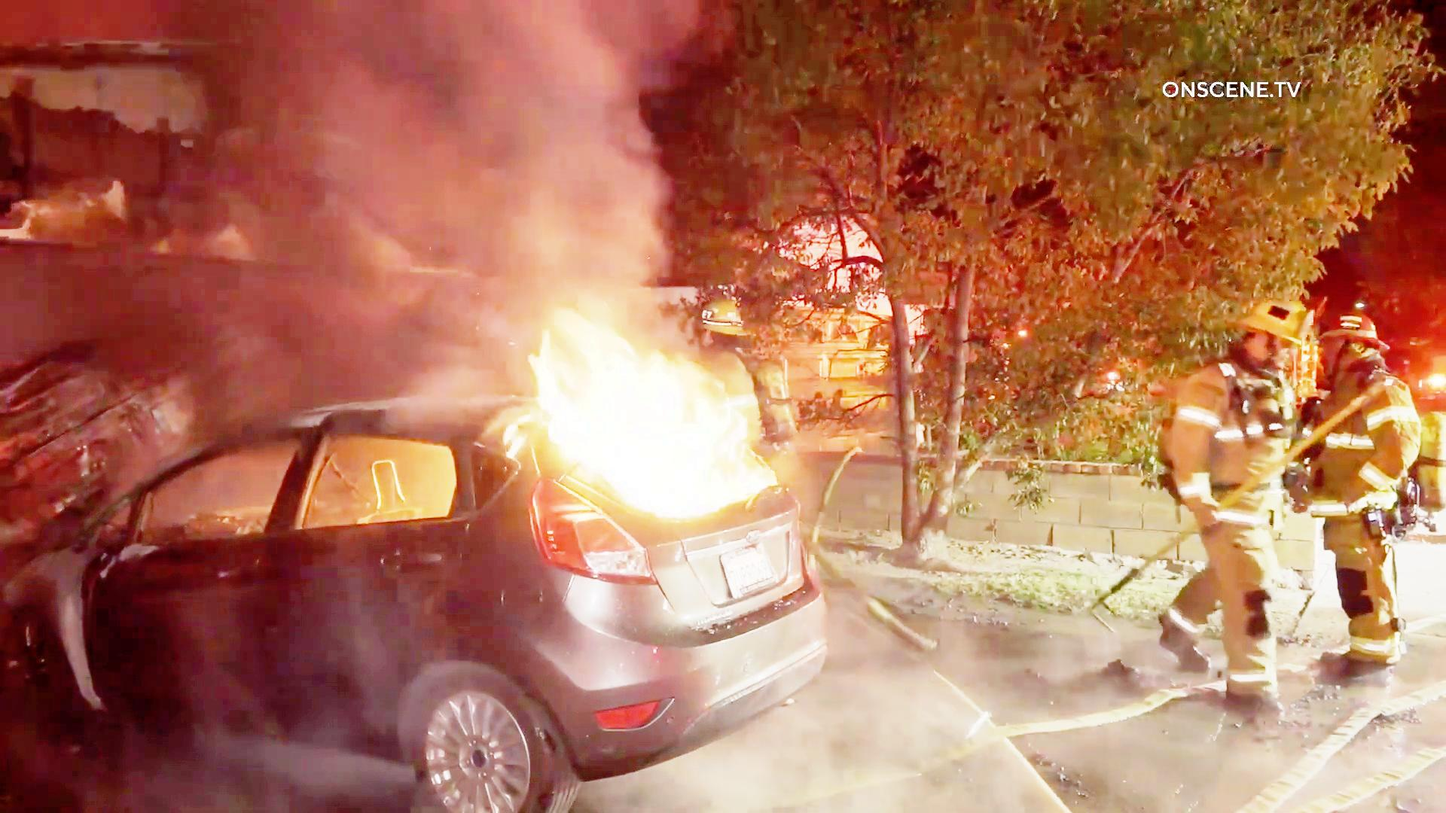fire: (535, 322, 776, 532)
smoke: (186, 0, 673, 279)
